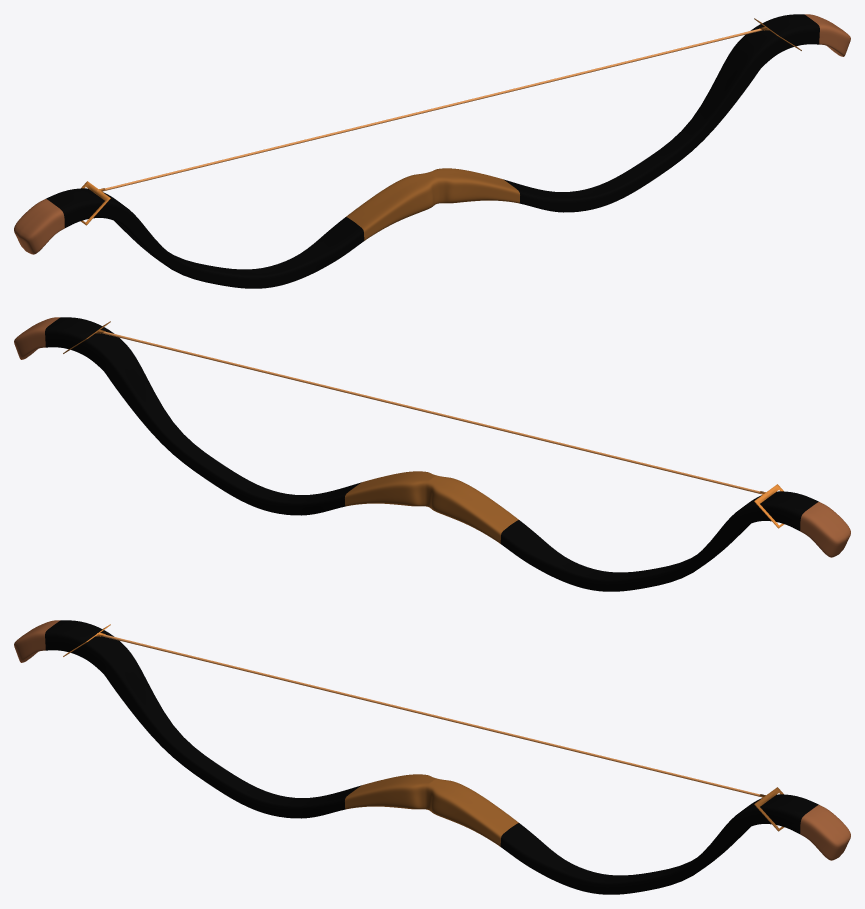
Rendered from Bow.fbx.
The picture shows the model from 3 angles, top to bottom: view 1: azimuth 30°, elevation 25°; view 2: azimuth 150°, elevation 25°; view 3: azimuth 330°, elevation 25°; orthographic projection.
Visible parts, largest first — view 1: Plane, Cylinder; view 2: Plane, Cylinder; view 3: Plane, Cylinder.
Part boxes in pixels (x1,y1,x2,y2): Plane: [14, 14, 850, 288]; Cylinder: [97, 28, 762, 191]; Plane: [14, 317, 850, 591]; Cylinder: [102, 331, 767, 494]; Plane: [14, 620, 850, 894]; Cylinder: [97, 633, 761, 797].
Bounding box in the file's own units: 314 × 49.32 × 15.2.
